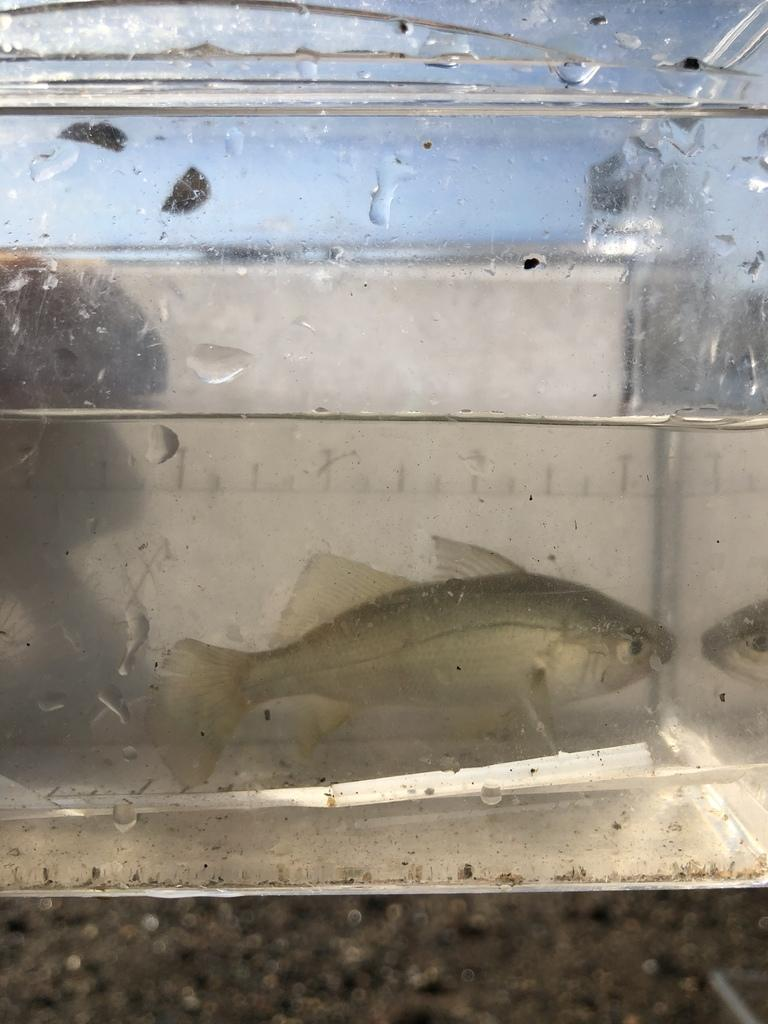Silver Perch: (161, 540, 665, 785)
